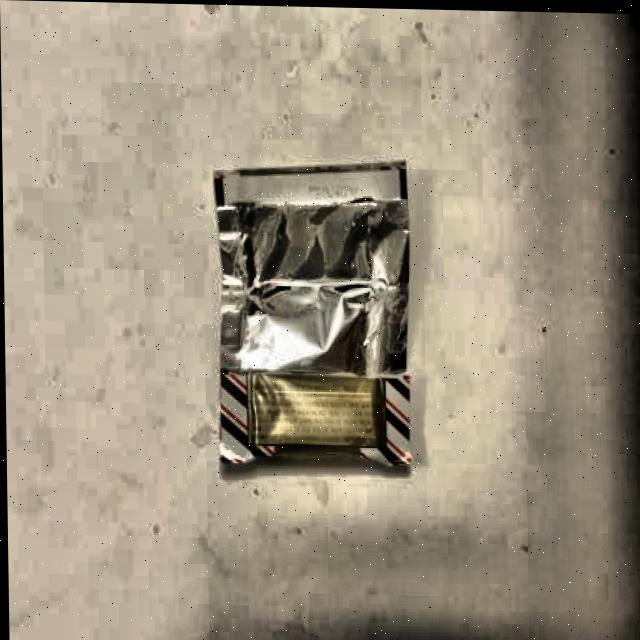trash: (205, 152, 424, 490)
